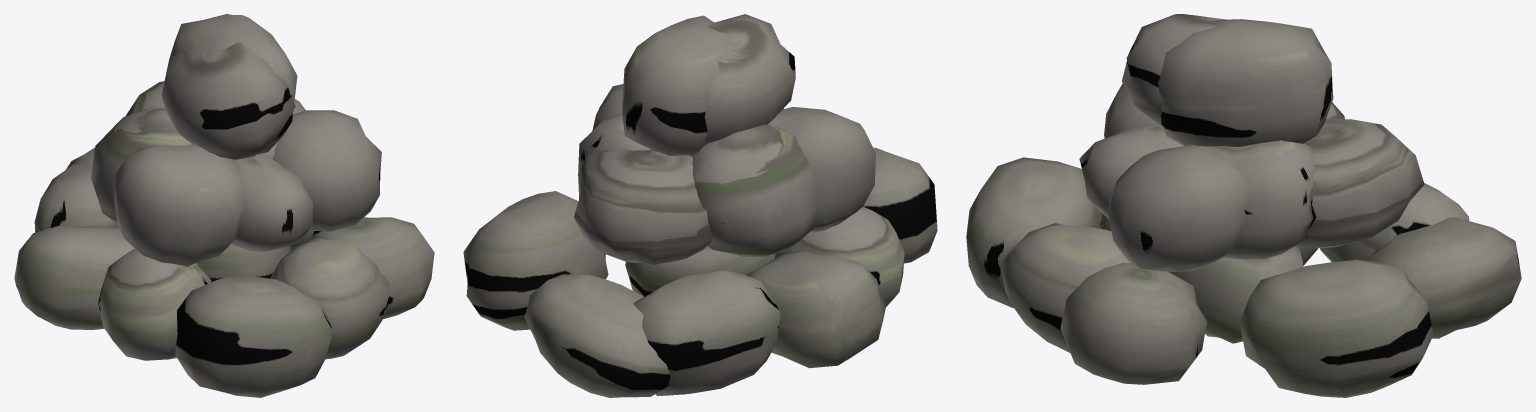
Rendered from SM_Camp_DropStones.fbx.
3 renders of one model, left to right at view 1: azimuth 30°, elevation 25°; view 2: azimuth 150°, elevation 25°; view 3: azimuth 270°, elevation 25°, orthographic. The views are drawn at different scales.
Visible parts, largest first — view 1: SM_Camp_DropStones; view 2: SM_Camp_DropStones; view 3: SM_Camp_DropStones.
Boxes of the visible parts, box(x1,y1,x2,y2) form: SM_Camp_DropStones: box(14, 14, 434, 397); SM_Camp_DropStones: box(463, 14, 937, 397); SM_Camp_DropStones: box(966, 14, 1521, 397).
Bounding box in the file's own units: 71.24 × 87.33 × 54.43.
